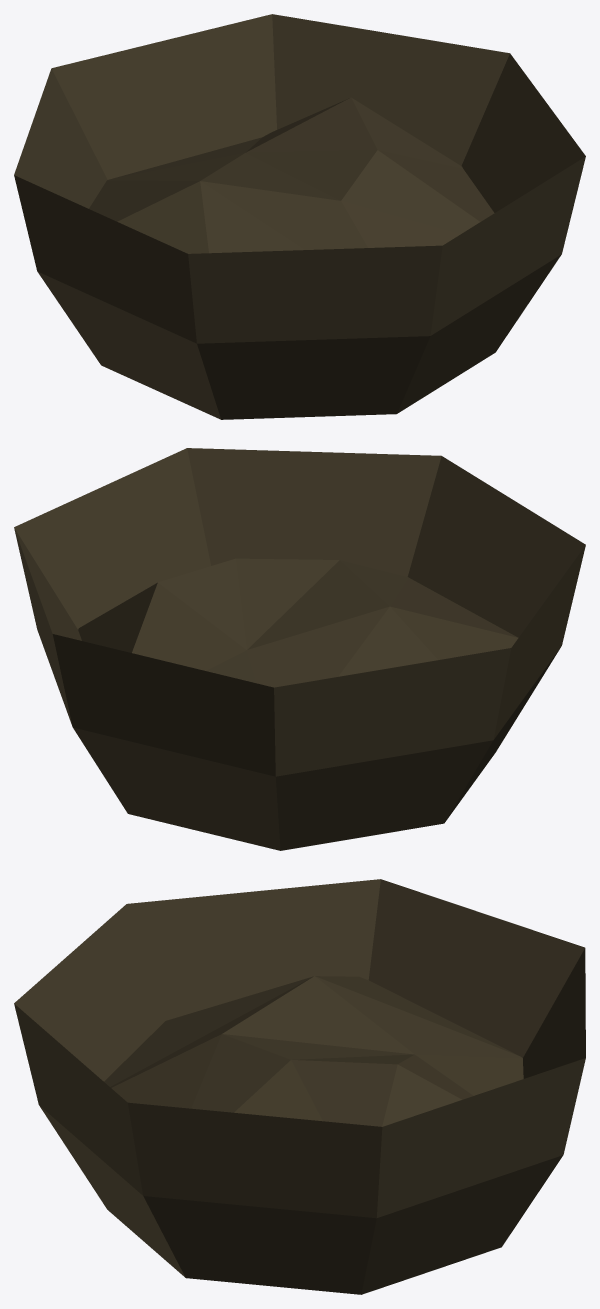
The model's file is ITFO_MEATBUGRAGOUT_01.OBJ.
3 views of the same model, one above another, from view 1: azimuth 30°, elevation 25°; view 2: azimuth 150°, elevation 25°; view 3: azimuth 270°, elevation 25° (orthographic). The views are drawn at different scales.
Visible parts, largest first — view 1: ITFO_MEATBUGRAGOUT_01; view 2: ITFO_MEATBUGRAGOUT_01; view 3: ITFO_MEATBUGRAGOUT_01.
Part boxes in pixels (x1,y1,x2,y2): ITFO_MEATBUGRAGOUT_01: (14, 14, 585, 419); ITFO_MEATBUGRAGOUT_01: (14, 448, 585, 850); ITFO_MEATBUGRAGOUT_01: (14, 879, 585, 1294).
Size of the model in its own units: 0.3219 by 0.1311 by 0.314.
